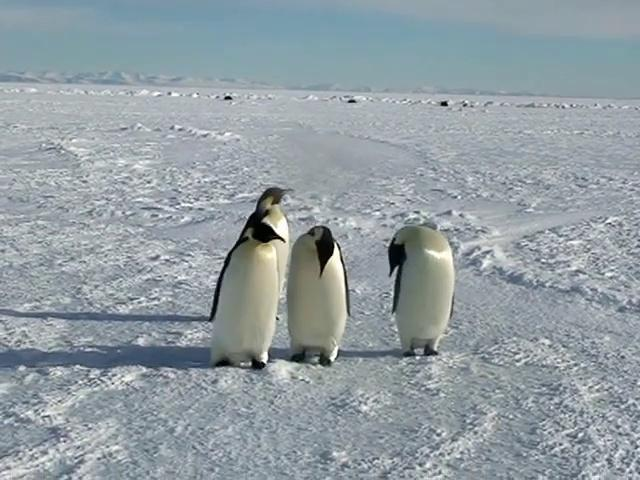animal: (388, 225, 454, 355)
